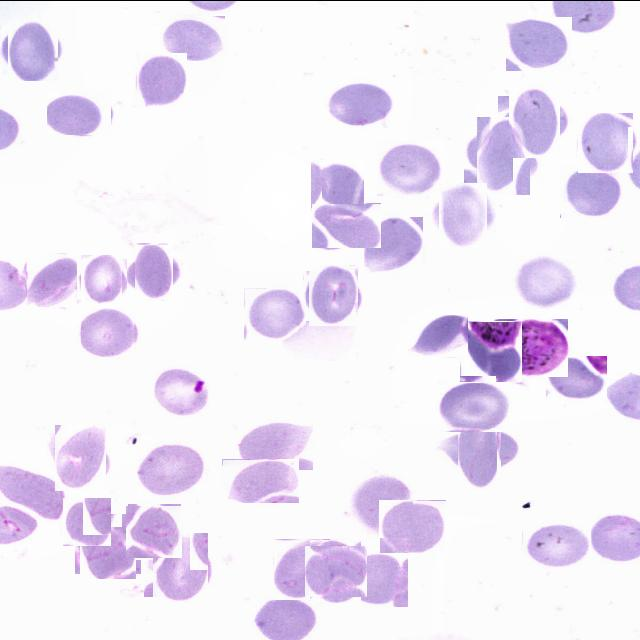gametocyte: (494, 318, 568, 376)
red blood cell: (470, 122, 536, 188), (148, 536, 212, 600), (448, 416, 512, 480), (138, 441, 208, 499), (351, 473, 413, 537), (504, 89, 566, 152), (460, 320, 522, 382), (377, 139, 445, 195), (237, 419, 313, 469), (78, 514, 138, 576), (438, 380, 510, 431), (344, 550, 408, 606), (506, 16, 572, 70), (379, 499, 446, 552), (50, 428, 110, 487), (274, 538, 330, 599), (222, 458, 299, 502), (326, 80, 398, 127), (576, 112, 634, 170), (514, 255, 577, 308), (434, 185, 492, 242), (364, 216, 423, 272), (560, 164, 622, 217), (307, 542, 364, 599), (244, 287, 306, 339), (521, 522, 591, 567), (311, 202, 381, 247), (5, 22, 61, 78), (306, 268, 362, 322), (160, 14, 225, 60), (127, 504, 182, 558), (134, 54, 188, 108), (310, 159, 364, 213), (154, 363, 209, 415), (47, 90, 111, 134), (26, 252, 77, 306), (546, 355, 607, 399), (81, 310, 136, 356), (408, 314, 468, 356), (63, 496, 112, 546), (130, 247, 178, 296), (79, 256, 125, 302)
